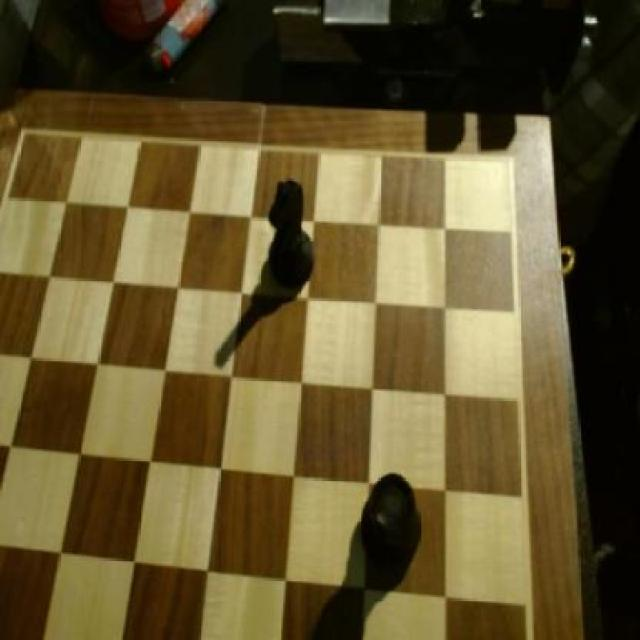black-king: (268, 174, 322, 289)
black-queen: (358, 470, 424, 582)
